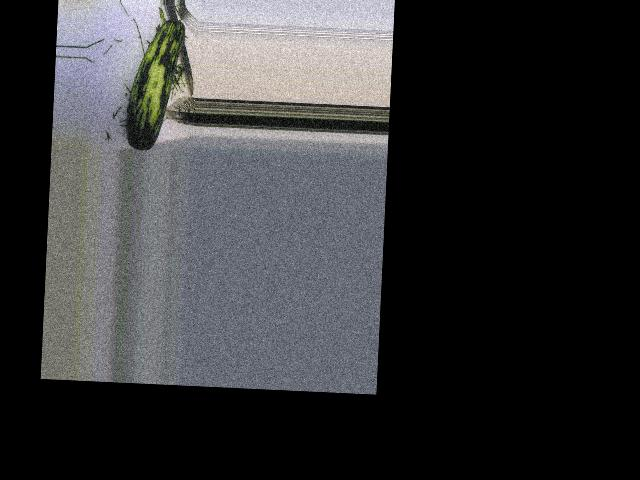cucumber: (124, 16, 185, 151)
